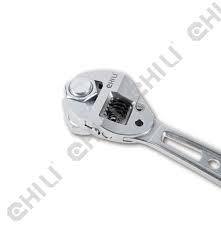wrench: (61, 65, 220, 187)
